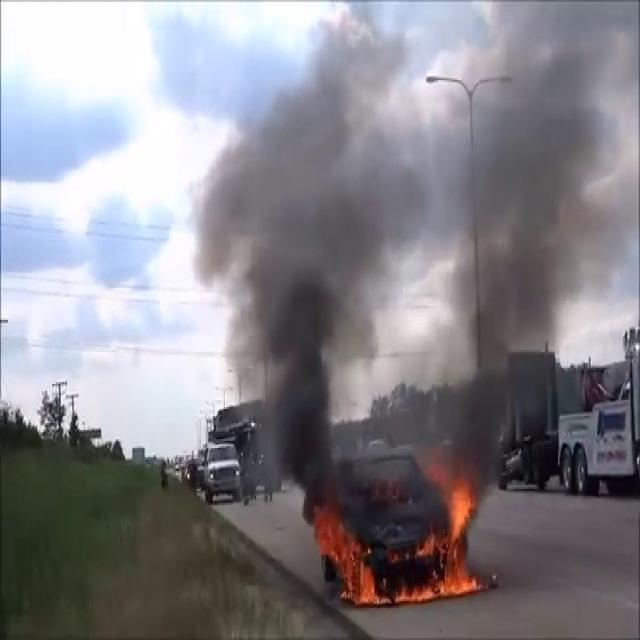Fire: (312, 499, 378, 609), (430, 467, 484, 600)
Smoke: (192, 2, 638, 474)
